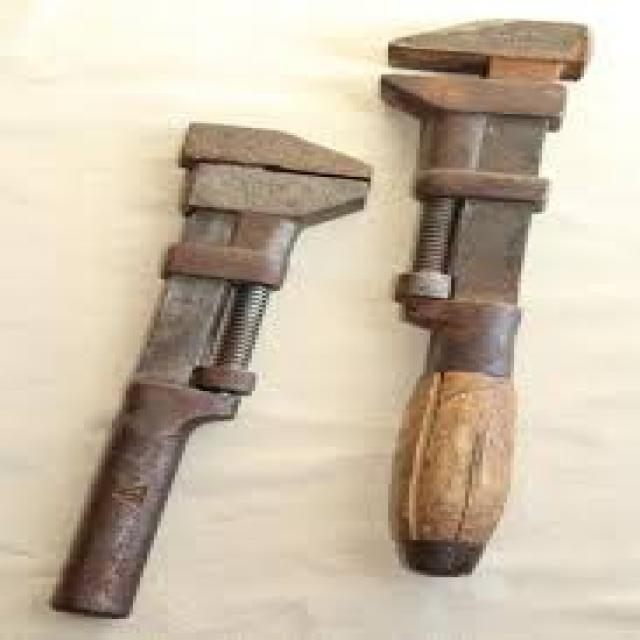wrench: (37, 113, 380, 628), (362, 9, 600, 582)
